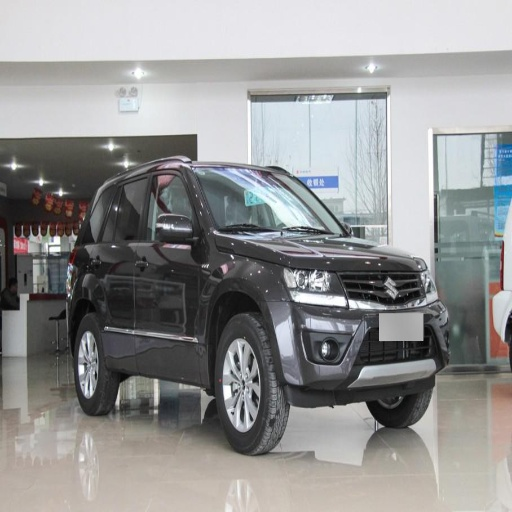front_bumper: (272, 270, 447, 397)
front_right_door: (133, 166, 201, 376)
front_right_light: (284, 266, 342, 303)
tailgate: (106, 29, 224, 103)
trunk: (46, 51, 122, 95)
